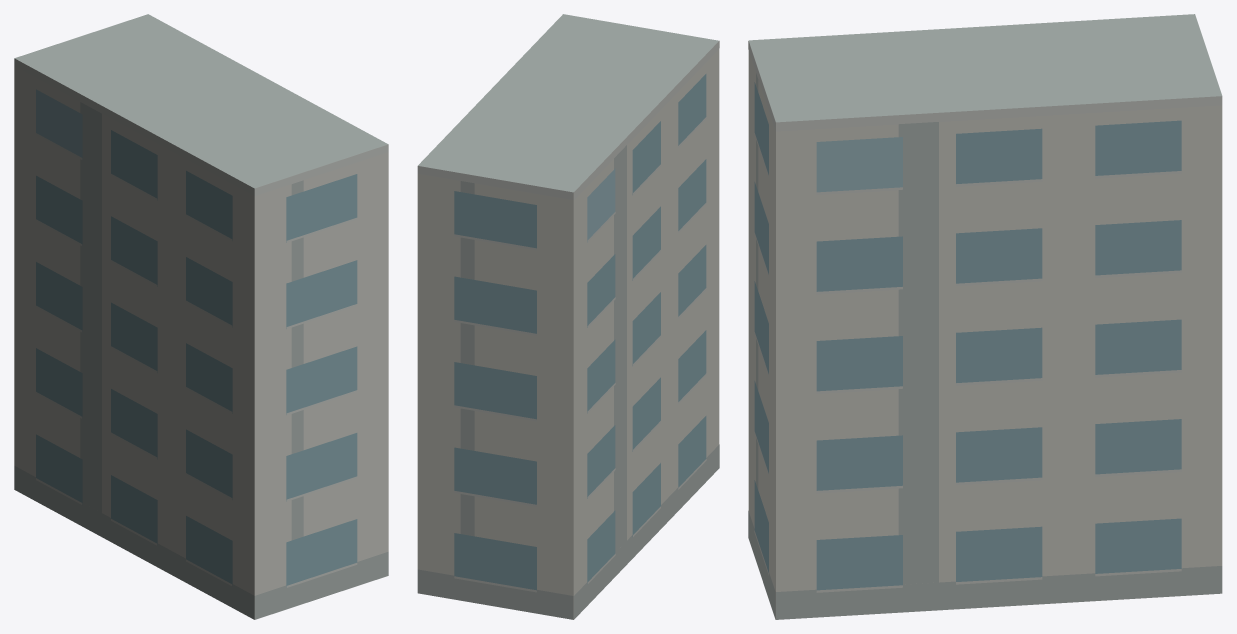
Rendered from survey-upis-32746695.glb.
The picture shows the model from 3 angles, left to right: view 1: azimuth 30°, elevation 25°; view 2: azimuth 150°, elevation 25°; view 3: azimuth 270°, elevation 25°; orthographic projection. The views are drawn at different scales.
Parts seen in each view (by area): view 1: survey-upis-32746695.tmp; view 2: survey-upis-32746695.tmp; view 3: survey-upis-32746695.tmp.
Part boxes in pixels (bbox=[...]): survey-upis-32746695.tmp: bbox=[14, 14, 388, 619]; survey-upis-32746695.tmp: bbox=[417, 14, 719, 619]; survey-upis-32746695.tmp: bbox=[748, 14, 1222, 619].
Size of the model in its own units: 6.27 by 13.4 by 11.58.
